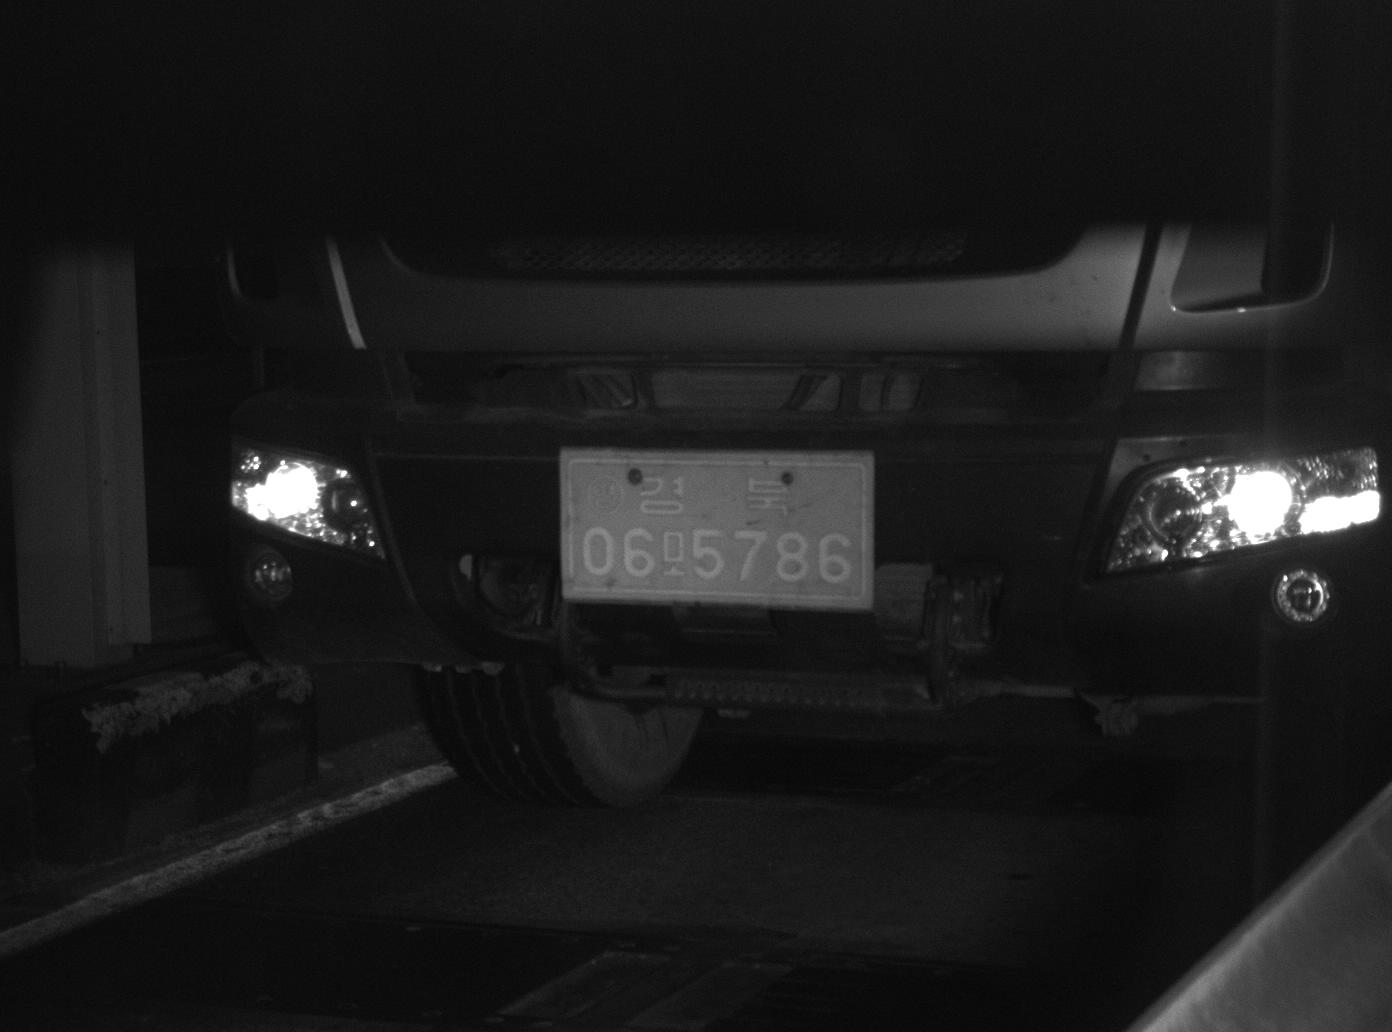car: (206, 236, 1392, 817)
plate: (558, 448, 870, 606)
